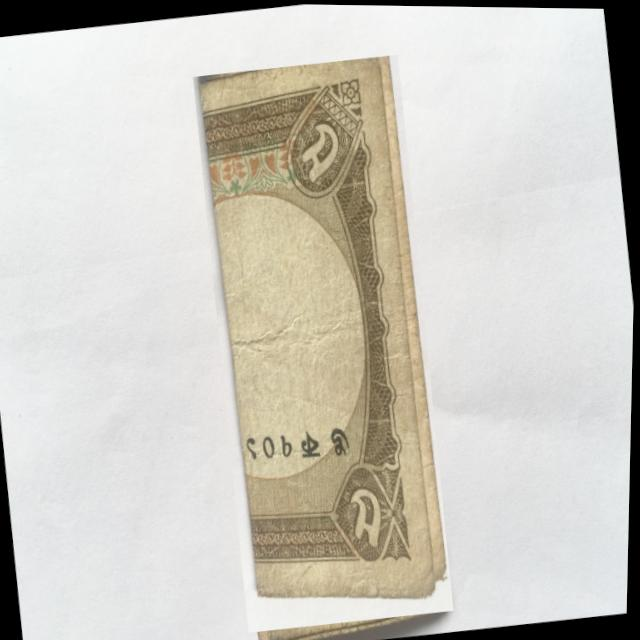Taka: (183, 51, 466, 634)
